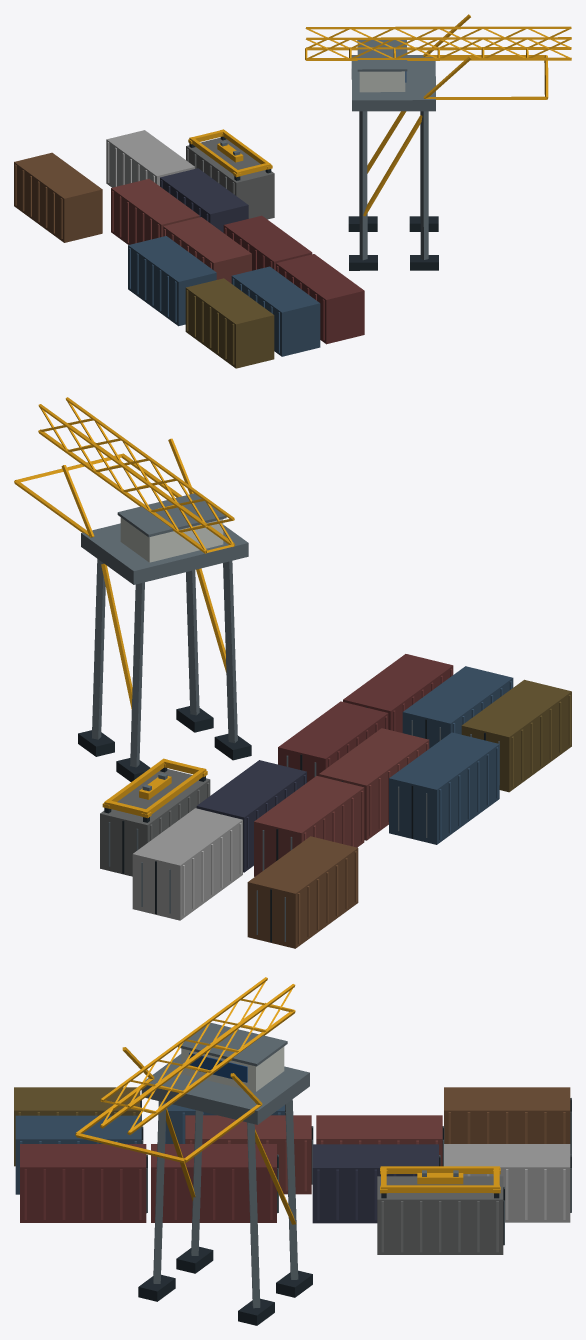
Rendered from gantry-crane-n-s-04.glb.
The picture shows the model from 3 angles, top to bottom: view 1: azimuth 30°, elevation 25°; view 2: azimuth 150°, elevation 25°; view 3: azimuth 270°, elevation 25°; orthographic projection. The views are drawn at different scales.
Parts seen in each view (by area): view 1: gantry-crane-n-s-04; view 2: gantry-crane-n-s-04; view 3: gantry-crane-n-s-04.
Boxes of the visible parts, x1=… form: gantry-crane-n-s-04: x1=14, y1=14, x2=571, y2=368; gantry-crane-n-s-04: x1=14, y1=397, x2=571, y2=948; gantry-crane-n-s-04: x1=14, y1=977, x2=571, y2=1325.
Size of the model in its own units: 57.97 by 31.18 by 58.38.
